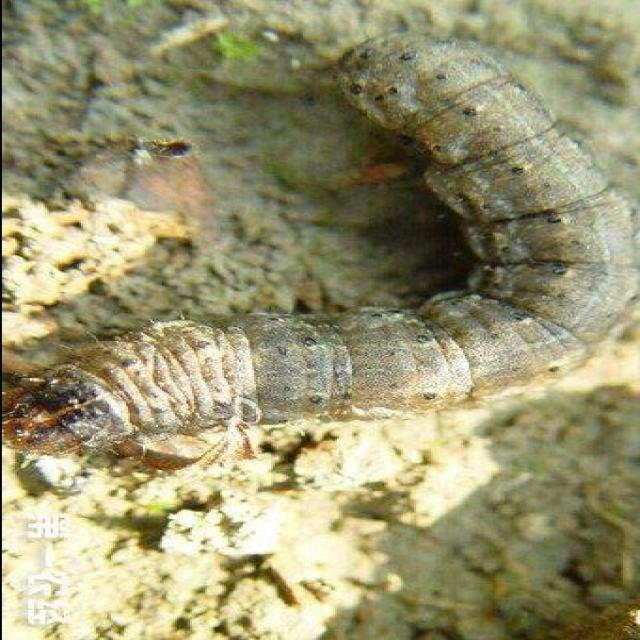black cutworm: (12, 28, 640, 472)
